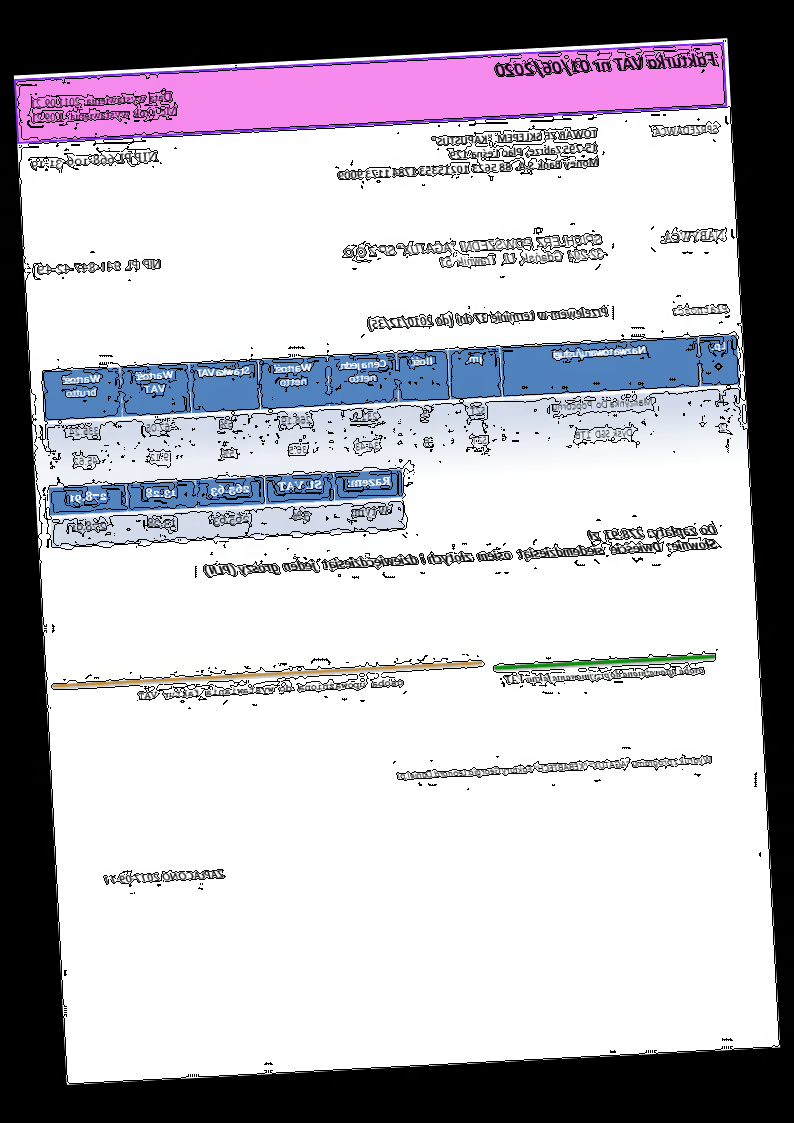Table: (41, 332, 744, 486), (47, 467, 406, 549)
TextBox: (201, 521, 720, 581), (336, 127, 603, 183), (338, 230, 607, 276), (395, 753, 713, 784), (136, 675, 405, 703), (493, 49, 718, 82), (367, 304, 611, 334), (29, 87, 182, 127), (503, 663, 706, 688), (30, 148, 162, 174), (35, 257, 163, 278), (102, 866, 226, 886), (651, 121, 721, 139), (658, 227, 727, 245), (672, 300, 730, 318)
